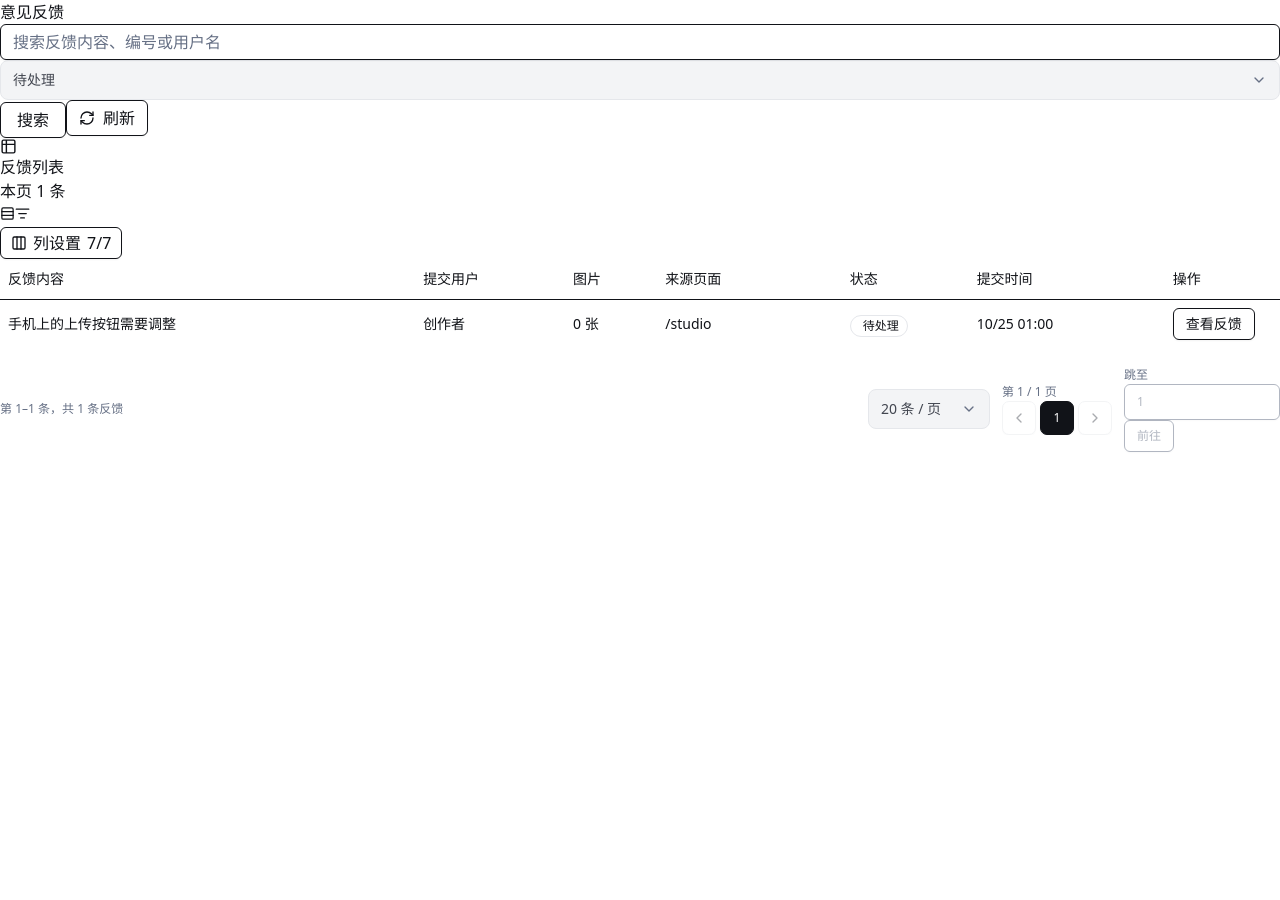
keeps the detail and status when processing fails
Click the button "查看反馈". click: (1214,324)
box: top-left (1173, 308), bottom-right (1255, 340)
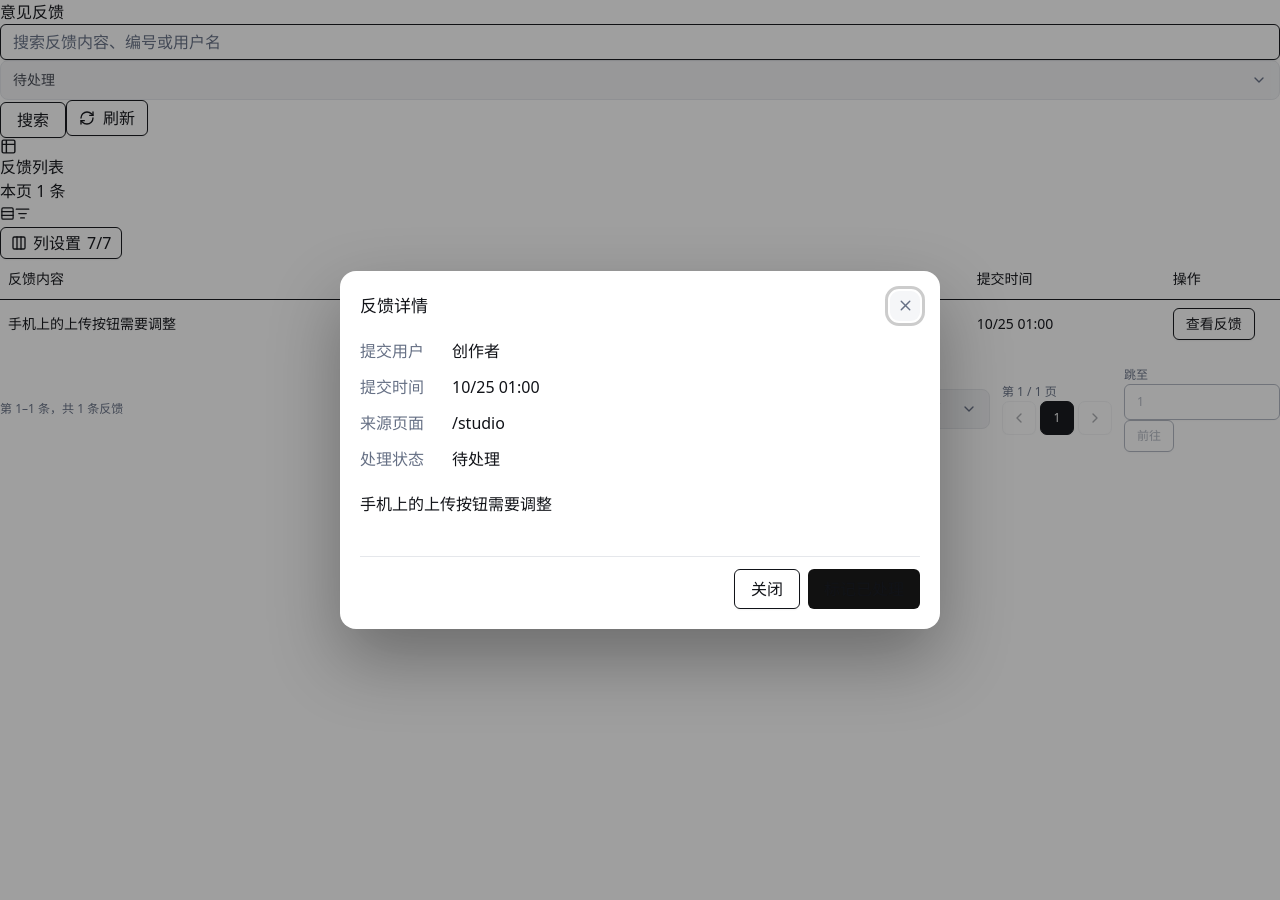
Now the button "标记已处理" is shown
Click the button "标记已处理". click: (864,589)
box: top-left (808, 569), bottom-right (920, 609)
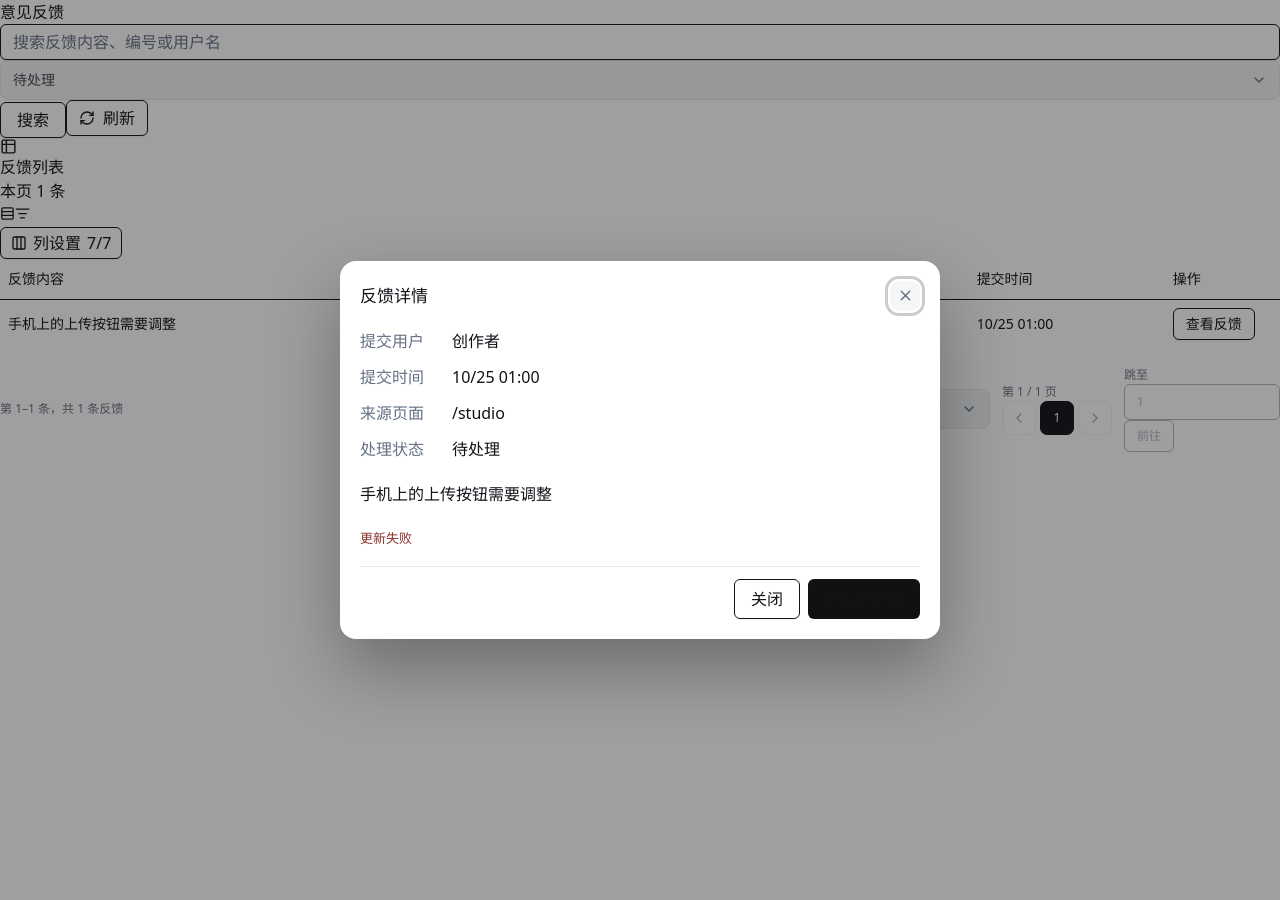
Now the dialog shows "标记已处理", box top-left (808, 580), bottom-right (920, 620)
Now the message "更新失败" is shown, box top-left (360, 529), bottom-right (412, 547)
